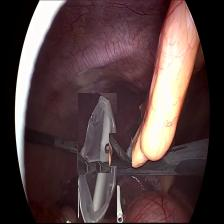Grasper: (109, 133, 132, 166), (54, 140, 90, 154), (96, 161, 113, 173)
Specimen Bag: (78, 93, 117, 224)
